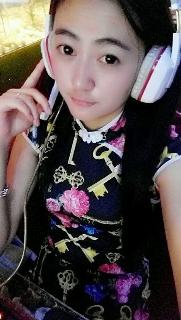vest: (0, 93, 181, 320)
